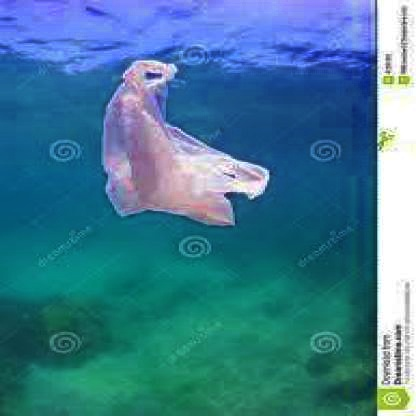pbag: (97, 57, 272, 229)
